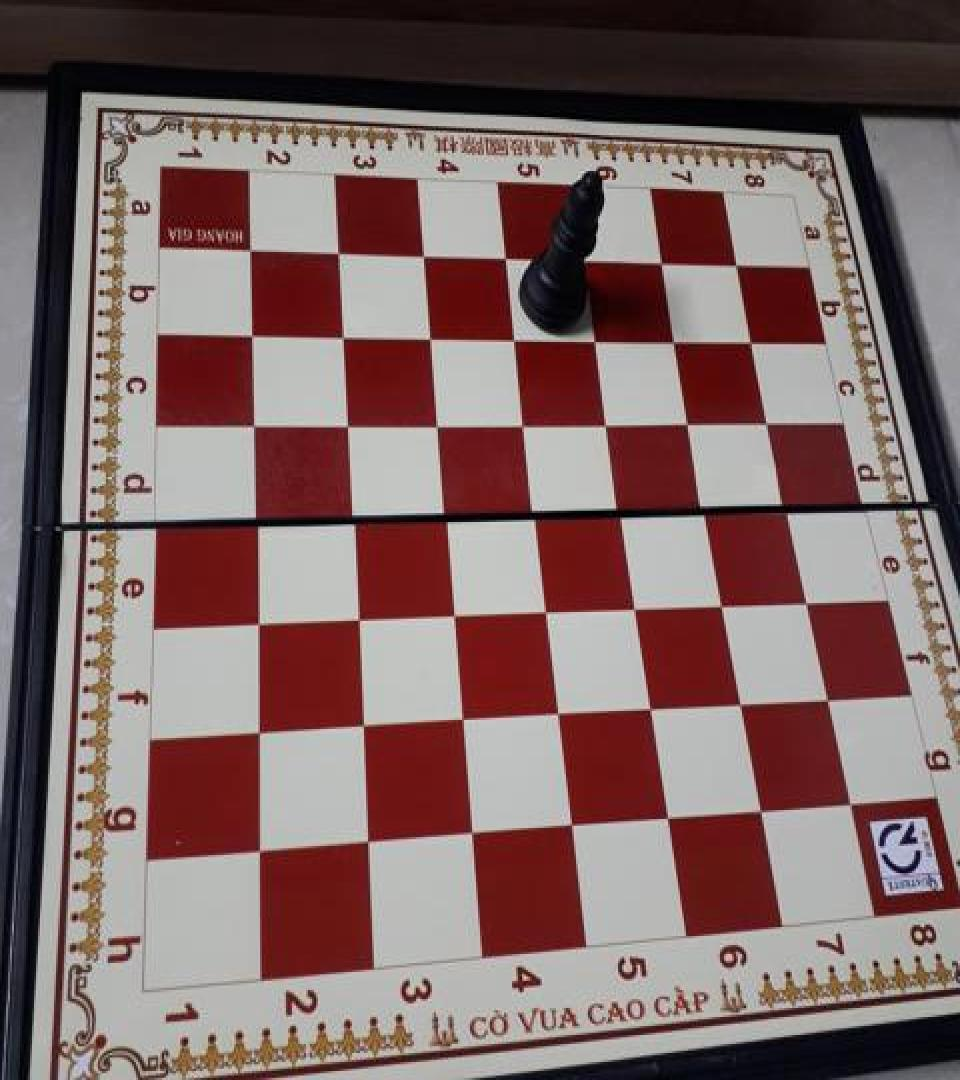xcorner: (564, 237, 598, 276), (731, 317, 765, 356), (655, 317, 689, 356), (504, 400, 538, 439), (417, 400, 451, 439), (716, 241, 750, 279), (641, 240, 675, 278), (484, 235, 518, 273), (402, 233, 436, 271), (318, 231, 352, 269), (231, 230, 265, 268), (575, 316, 609, 354), (494, 315, 528, 353), (409, 314, 443, 352), (322, 314, 356, 352), (232, 313, 266, 351), (748, 398, 782, 436), (669, 400, 703, 438), (588, 400, 622, 438), (327, 402, 361, 440), (234, 402, 268, 440), (766, 485, 800, 523), (685, 487, 719, 525), (601, 488, 635, 526), (515, 490, 549, 528), (425, 493, 459, 531), (332, 495, 366, 533), (236, 498, 270, 536), (785, 576, 819, 614), (702, 580, 736, 618), (615, 584, 649, 622), (526, 588, 560, 626), (433, 592, 467, 630), (337, 595, 371, 633), (238, 600, 272, 638), (806, 675, 840, 713), (720, 680, 754, 718), (631, 685, 665, 723), (538, 691, 572, 729), (443, 698, 477, 736), (343, 703, 377, 741), (240, 710, 274, 748), (828, 780, 862, 818), (739, 786, 773, 824), (647, 794, 681, 832), (552, 802, 586, 840), (452, 811, 486, 849), (349, 820, 383, 858), (242, 829, 276, 867)
